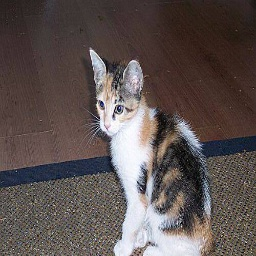cat: (85, 45, 217, 256)
